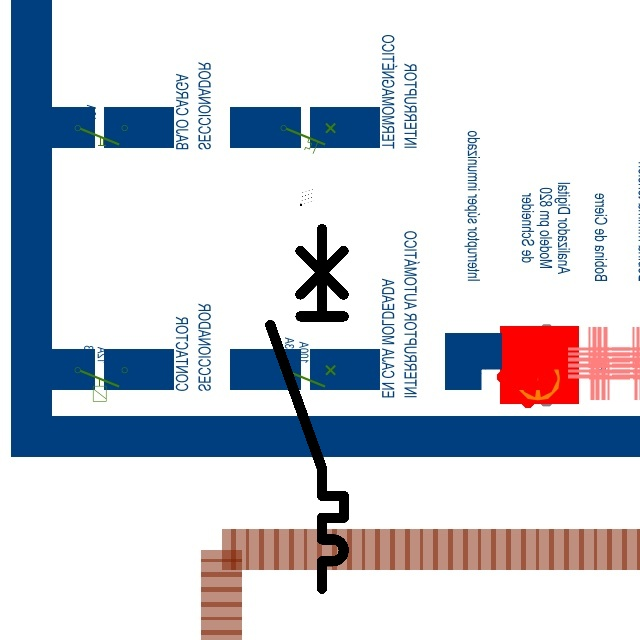interruptor_termomagnetico: (261, 219, 353, 597)
